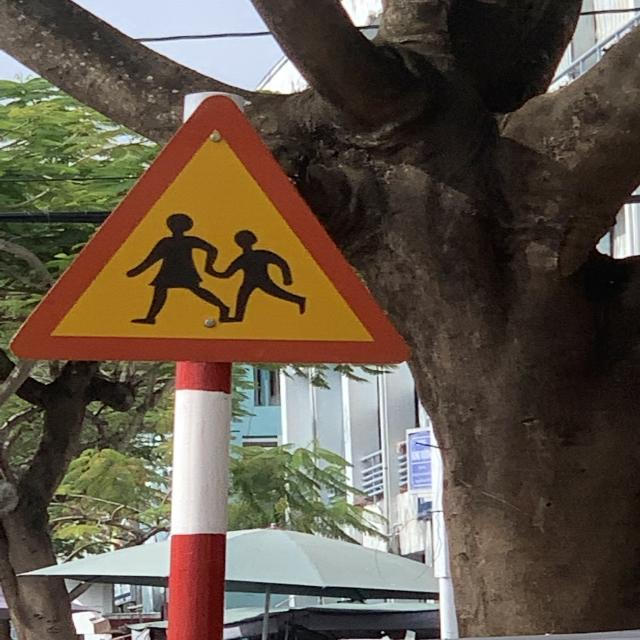Vong_Xuyen: (14, 96, 414, 364)
